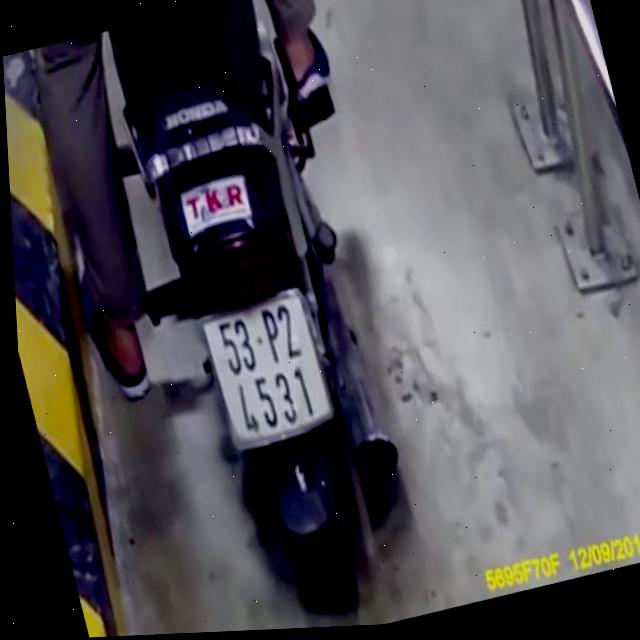motorcycle: (62, 0, 453, 637)
plate: (194, 287, 344, 456)
